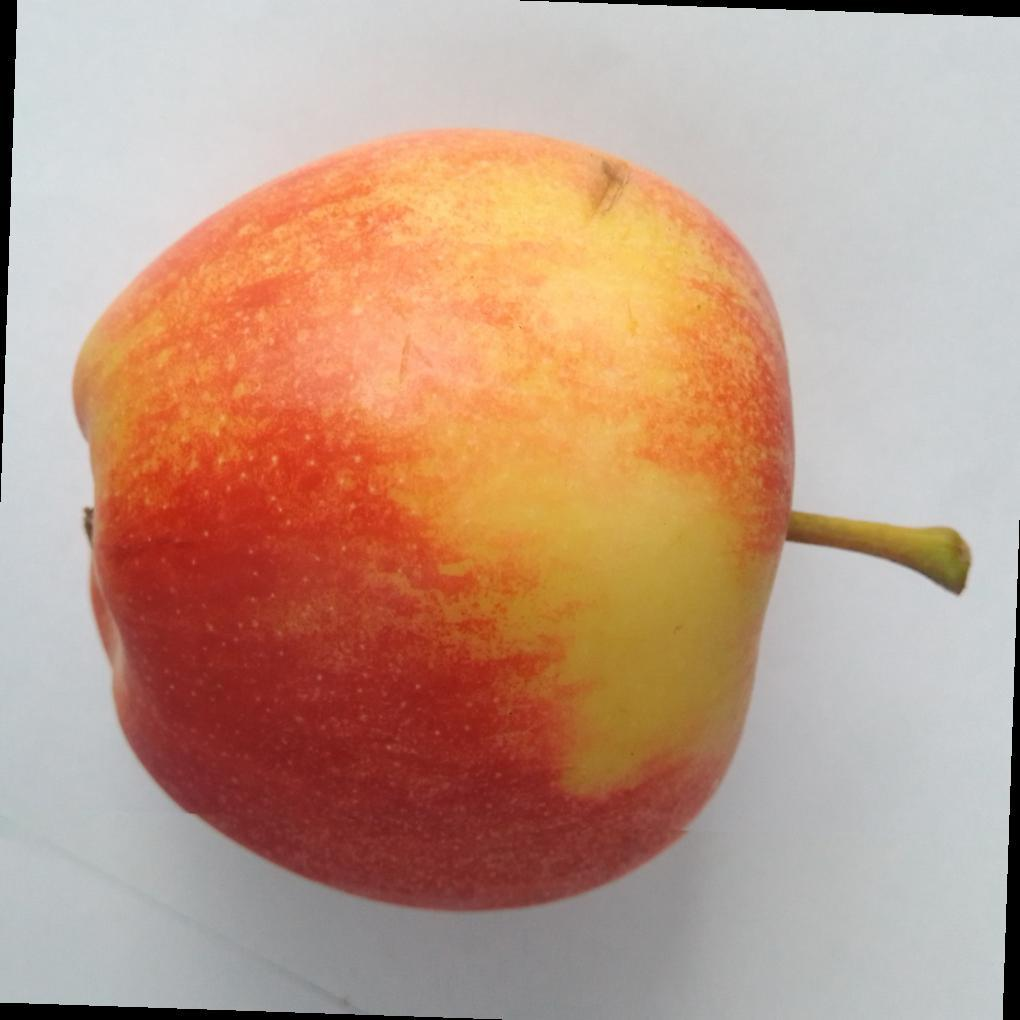FreshGuava: (70, 128, 970, 918)
